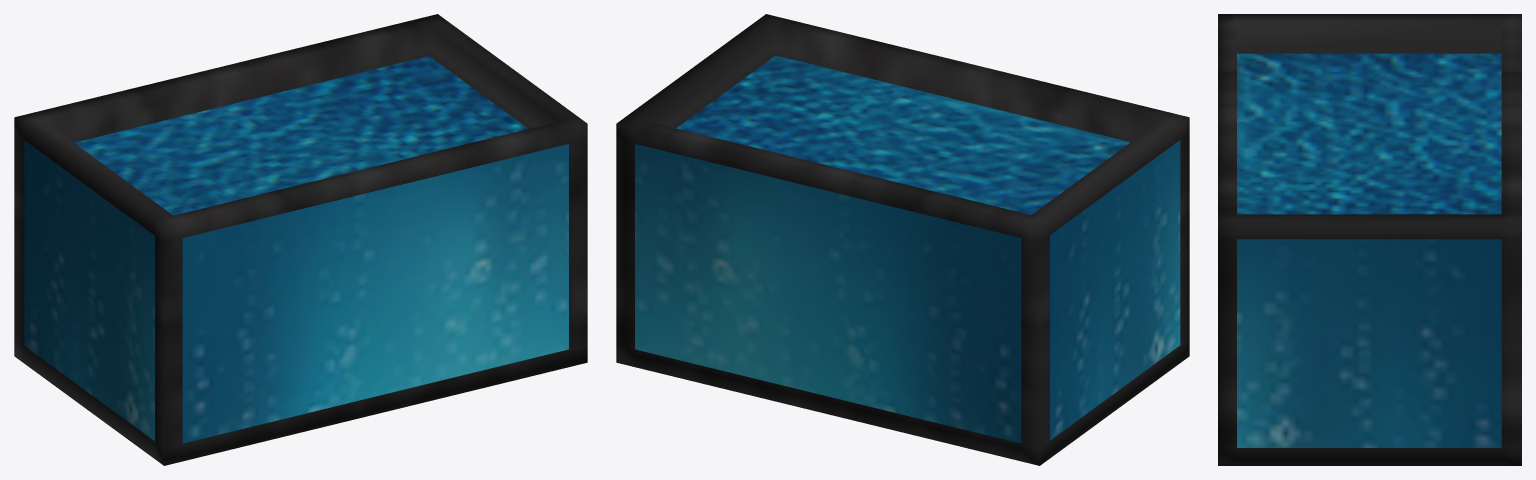
Rendered from WorldItem_HCFishTank_Full.fbx.
3 renders of one model, left to right at view 1: azimuth 30°, elevation 25°; view 2: azimuth 150°, elevation 25°; view 3: azimuth 270°, elevation 25°, orthographic.
Parts seen in each view (by area): view 1: FishTankFull; view 2: FishTankFull; view 3: FishTankFull.
Part boxes in pixels (bbox=[...]): FishTankFull: bbox=[14, 14, 587, 465]; FishTankFull: bbox=[616, 14, 1189, 465]; FishTankFull: bbox=[1218, 14, 1521, 465].
Size of the model in its own units: 0.4345 by 0.2343 by 0.2663.
